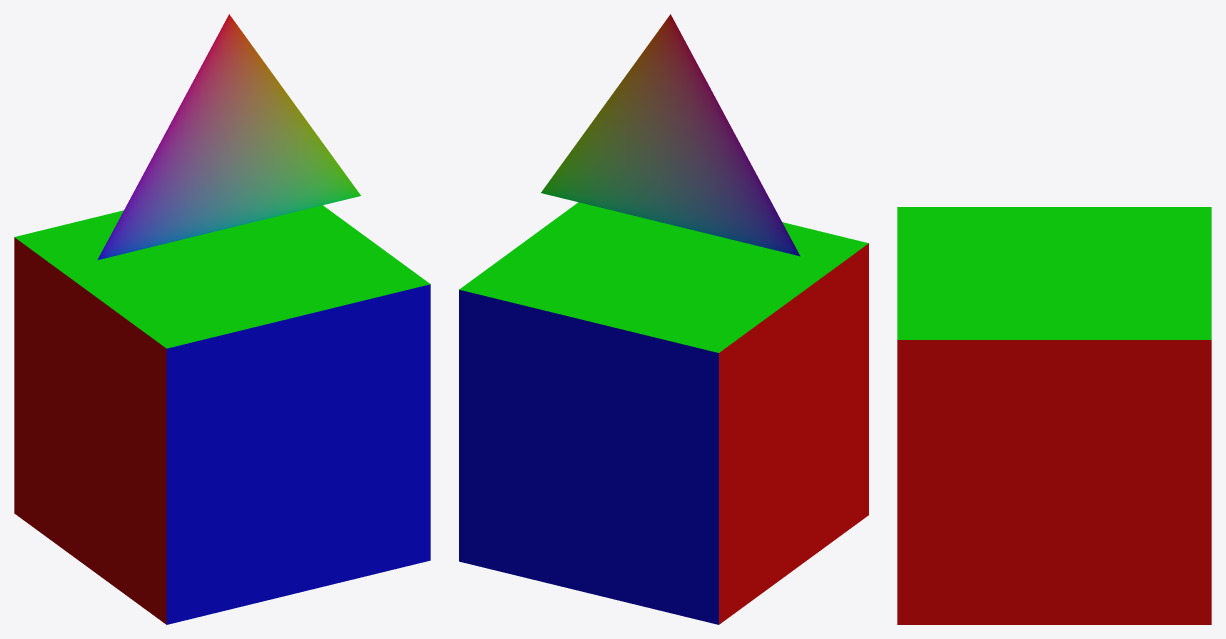
Rendered from VertexColor.obj.
3 renders of one model, left to right at view 1: azimuth 30°, elevation 25°; view 2: azimuth 150°, elevation 25°; view 3: azimuth 270°, elevation 25°, orthographic. The views are drawn at different scales.
Visible parts, largest first — view 1: Cube; view 2: Cube; view 3: Cube.
Boxes of the visible parts, <box> form: Cube: <box>14,14,430,624</box>; Cube: <box>459,14,868,624</box>; Cube: <box>897,207,1211,624</box>.
Size of the model in its own units: 2 by 3.82 by 2.
